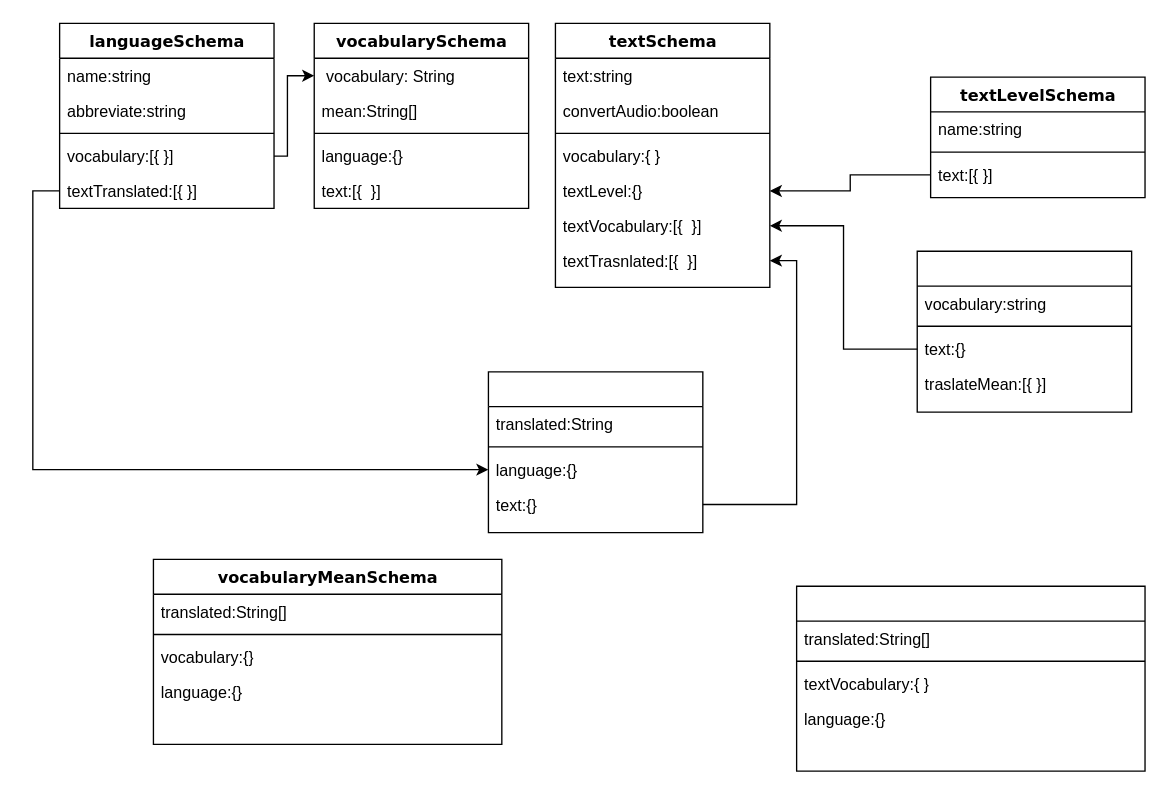
Some shapes in this 1168 by 795 pixel diagram are drawn without their labels. Here are the shapes that lost their labels. From the top down, the box of each, then its label:
(916, 250, 1132, 412): textVocabularySchema
(487, 371, 703, 533): textTranslatedSchema
(795, 585, 1145, 771): textVocabularyTranslatedSchema
